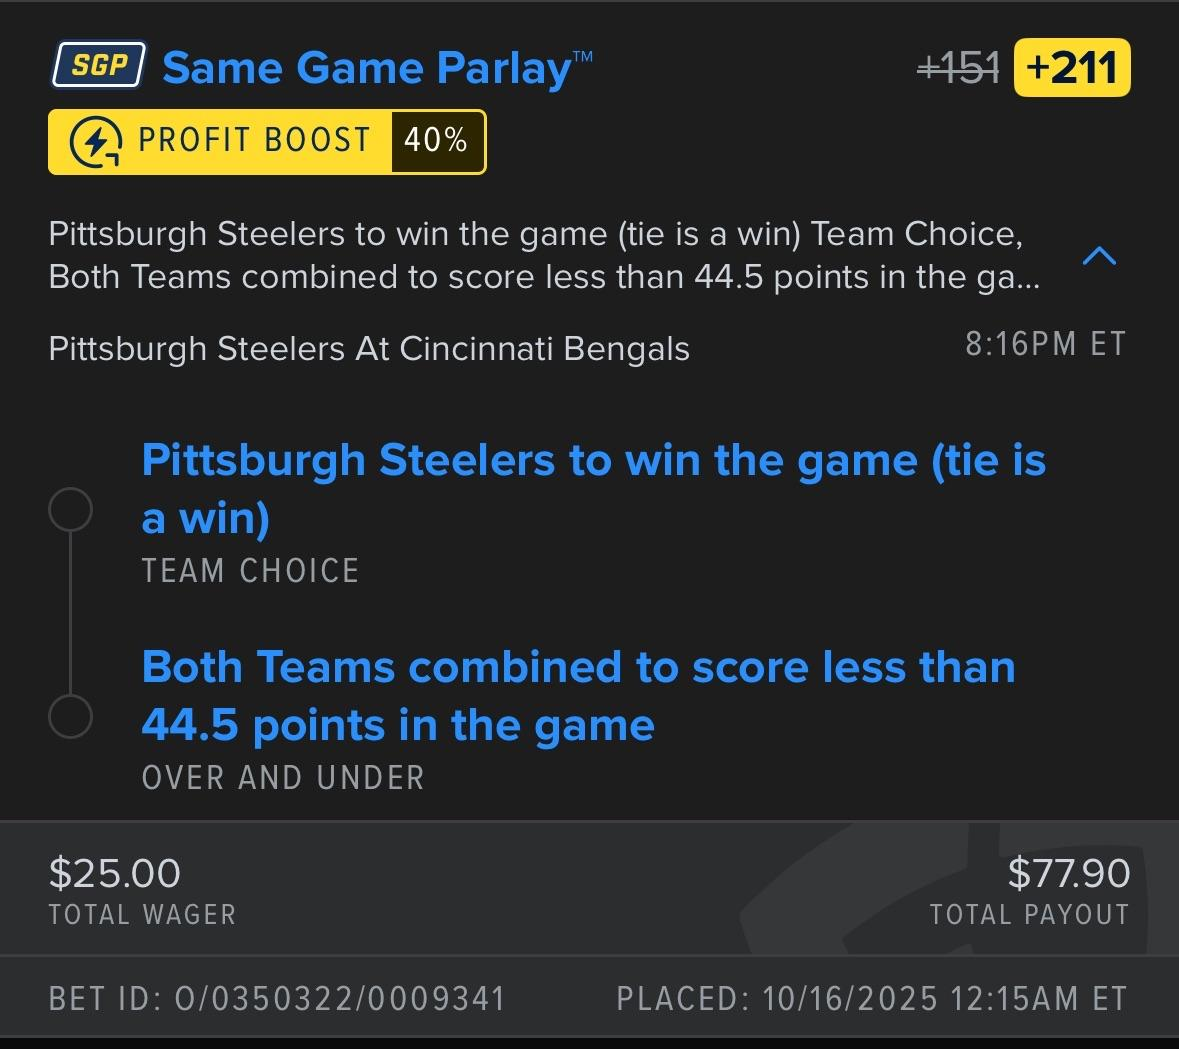game: (40, 323, 700, 376)
odds: (1014, 42, 1130, 93)
payout: (1009, 855, 1135, 897)
wager: (43, 849, 187, 896)
